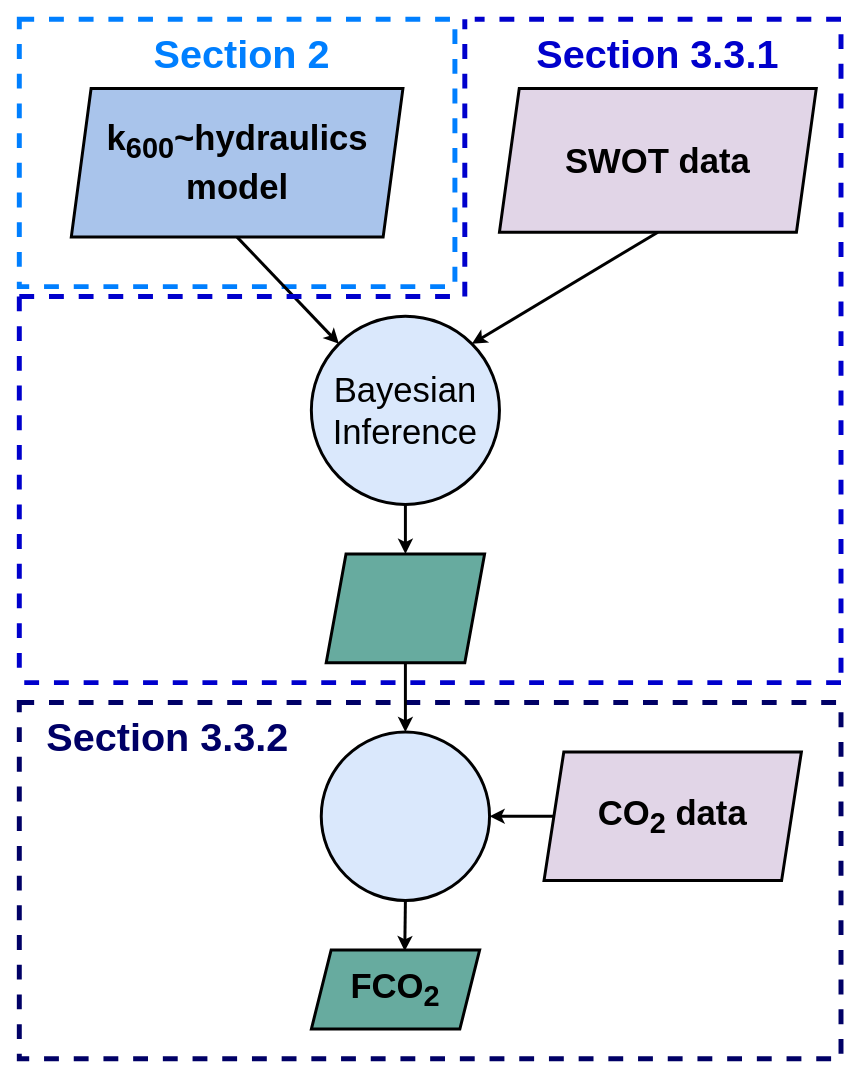
Image size: 861x1078. Some labels were removed from this diagram. Here are the shapes that lost their labels. From the top down, the centre of each, then its label:
At point 405,608: "K 600".
At point 405,815: "Calculate FCO 2".
